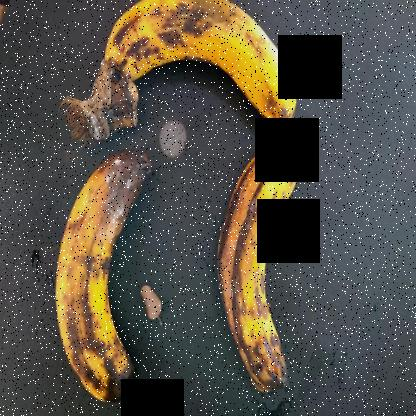overripe: (87, 1, 310, 112)
rotten: (39, 139, 162, 410), (198, 127, 320, 396)
